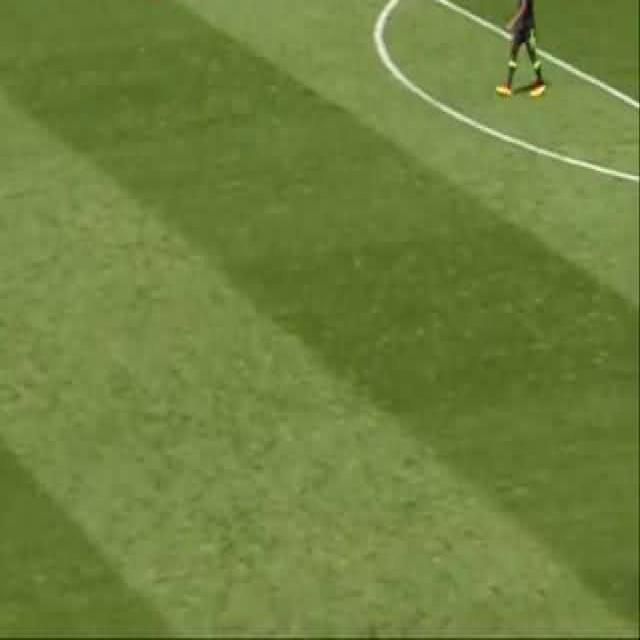player-white: (495, 0, 544, 98)
